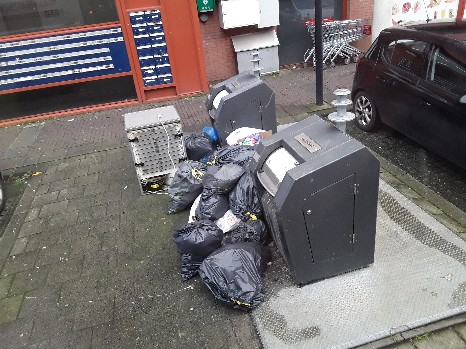Container: (257, 135, 413, 303), (214, 80, 280, 130)
Rest: (129, 109, 232, 194), (216, 247, 267, 318), (167, 220, 229, 265), (219, 176, 265, 221), (171, 158, 208, 205), (195, 125, 235, 161), (191, 141, 227, 171), (203, 164, 224, 208), (237, 137, 252, 175)
